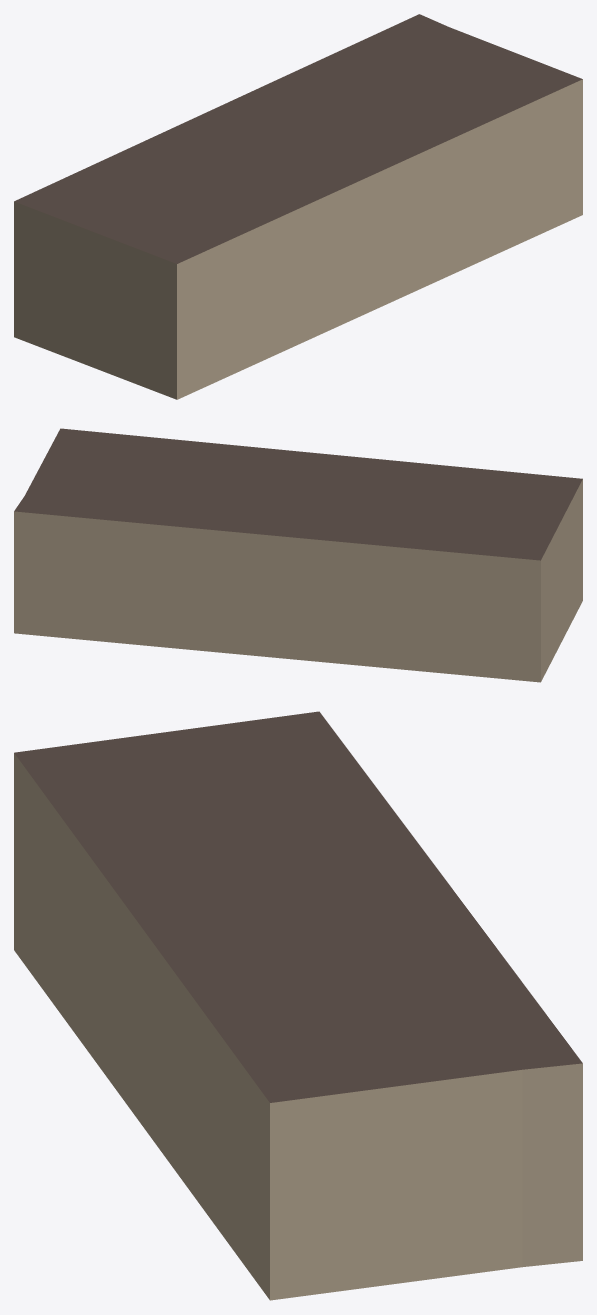
3 views of the same model, one above another, from view 1: azimuth 30°, elevation 25°; view 2: azimuth 150°, elevation 25°; view 3: azimuth 270°, elevation 25° (orthographic). The views are drawn at different scales.
Visible parts, largest first — view 1: HP-w756797945; view 2: HP-w756797945; view 3: HP-w756797945.
Part boxes in pixels (x1,y1,x2,y2): HP-w756797945: (14, 14, 582, 399); HP-w756797945: (14, 428, 582, 682); HP-w756797945: (14, 711, 582, 1300).
Bounding box in the file's own units: 38.29 × 9 × 23.51.
